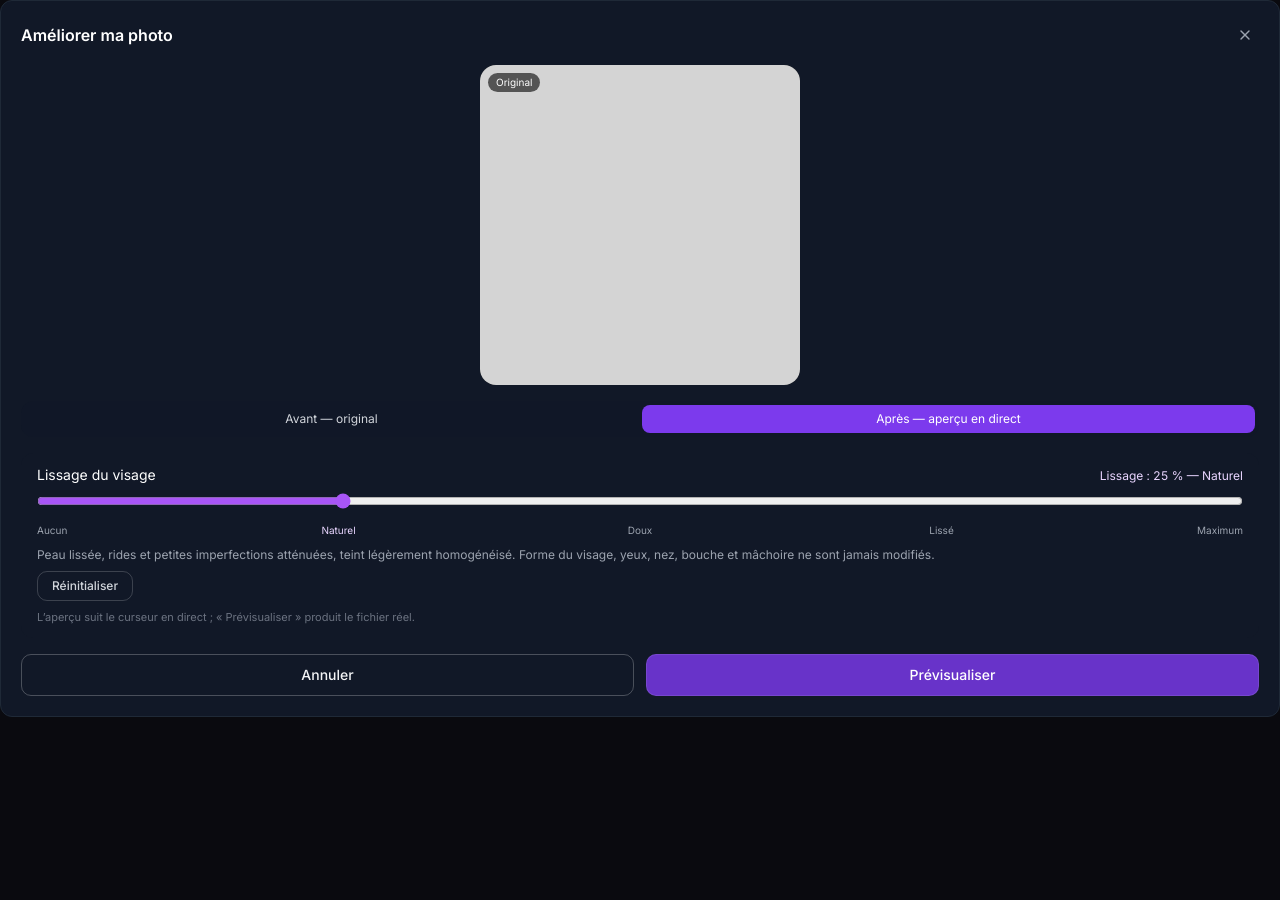
Test: Améliorer ma photo › ⚠️ curseur 0–100 %, 25 % d’emblée, valeur affichée ; les repères règlent la valeur
Expected: the text "Lissage : 25 % — Naturel" is shown, x1=1100 y1=468 x2=1243 y2=484
Set the slider labelled "Lissage du visage" to "40": [521, 501] box x1=37 y1=493 x2=1243 y2=509
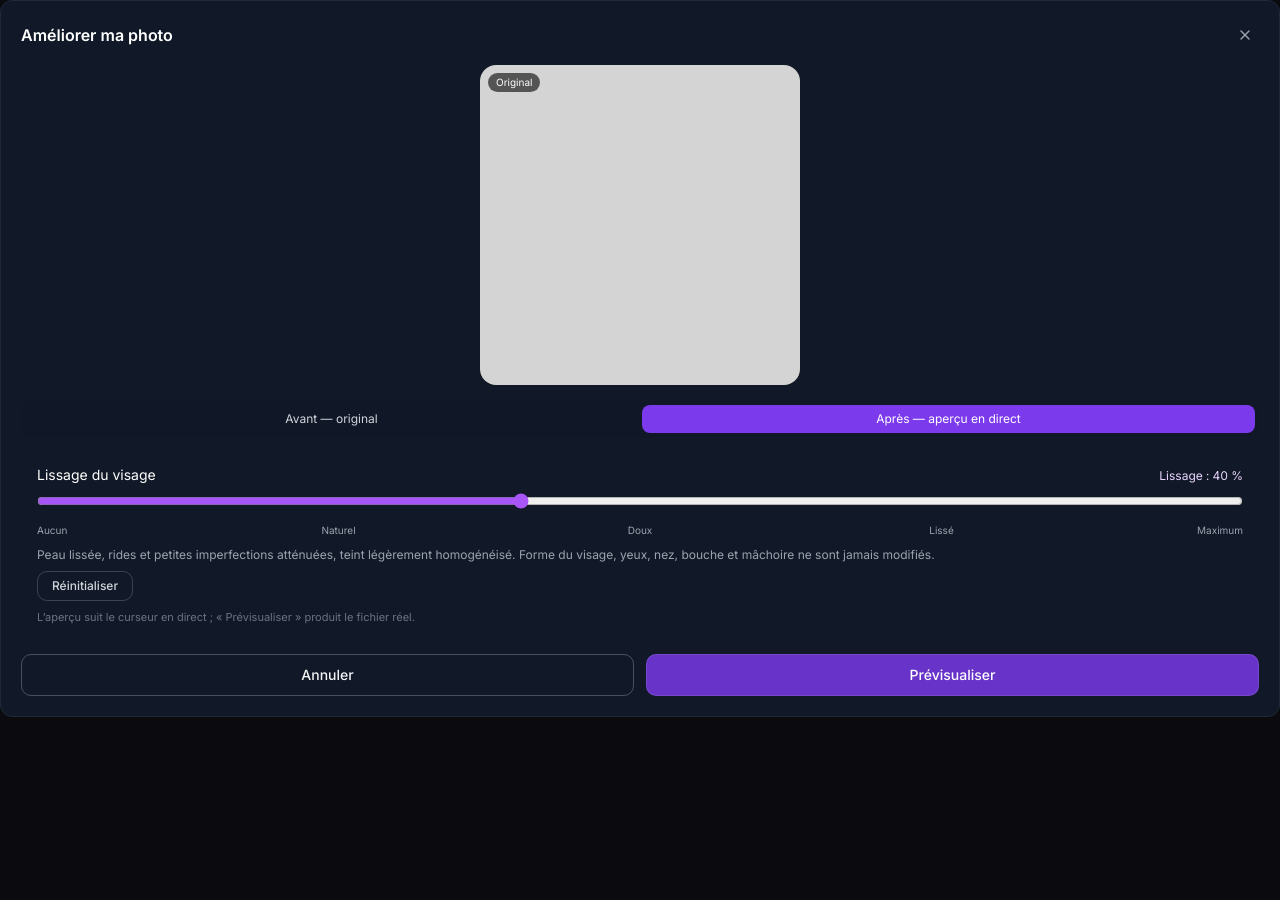
Result: the text "Lissage : 40 %" is shown at x1=1159 y1=468 x2=1243 y2=484
Click the button "Lissé": [942, 530] box x1=929 y1=523 x2=954 y2=538
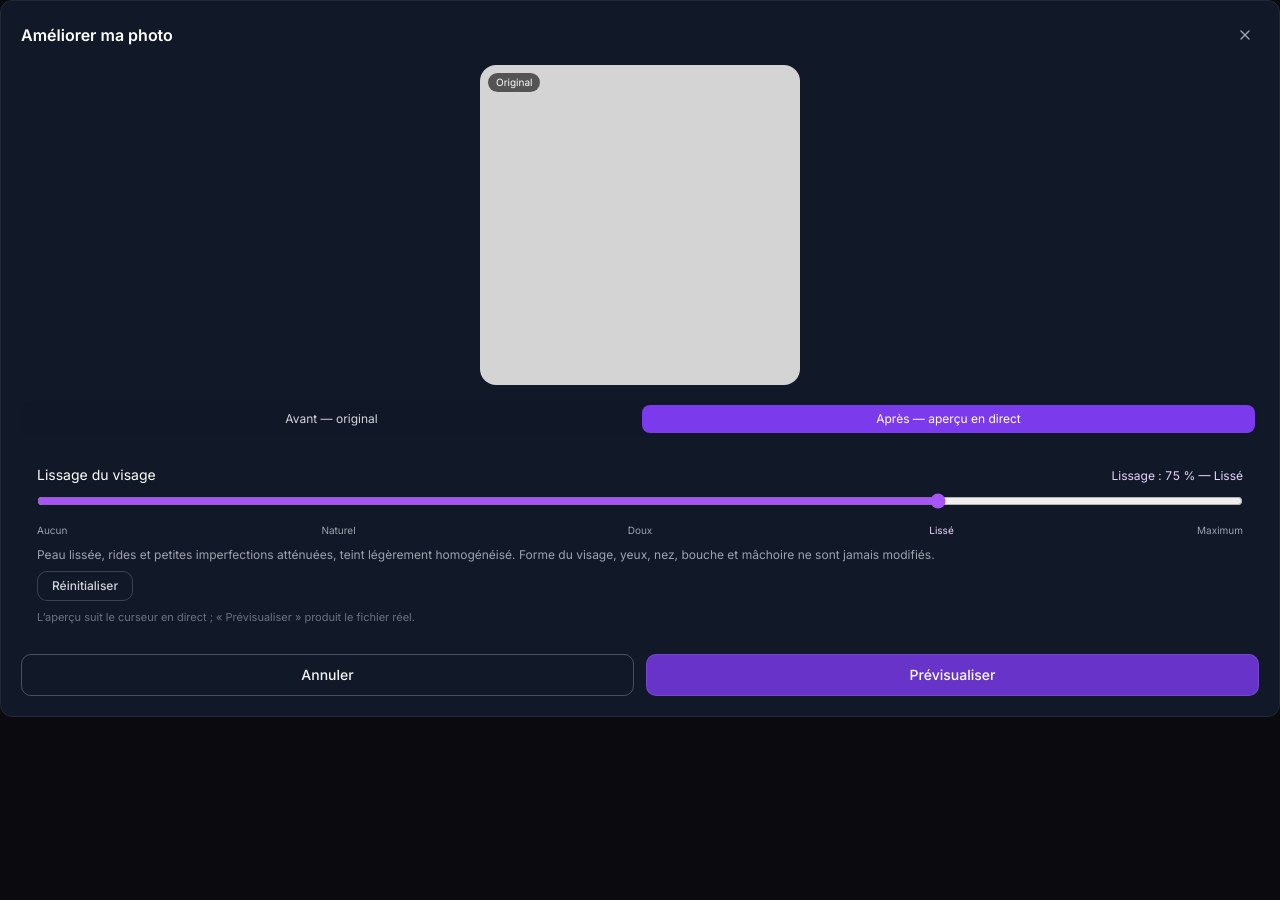
Result: the text "Lissage : 75 % — Lissé" is shown at x1=1112 y1=468 x2=1243 y2=484
